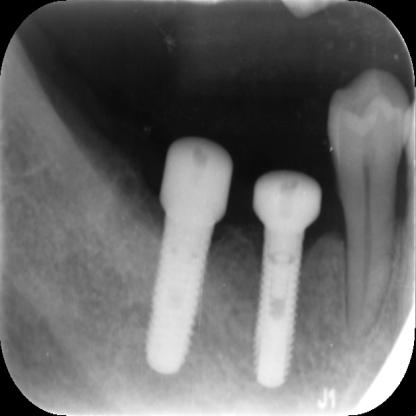Bego: (137, 213, 217, 387), (249, 221, 307, 393)
